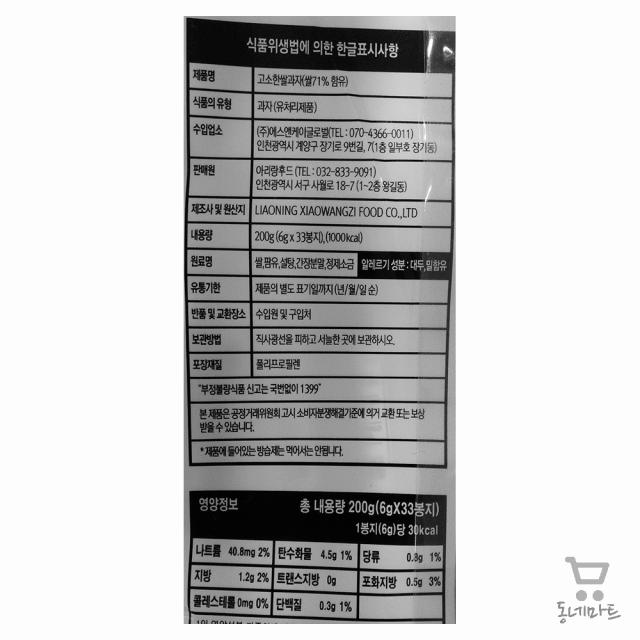Nutrition Label: (186, 484, 453, 623)
